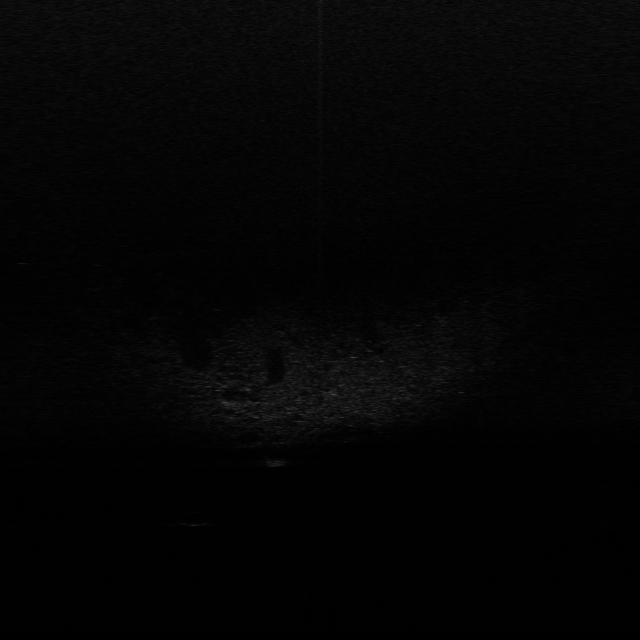ball: (174, 510, 214, 526)
cube: (260, 453, 296, 468)
